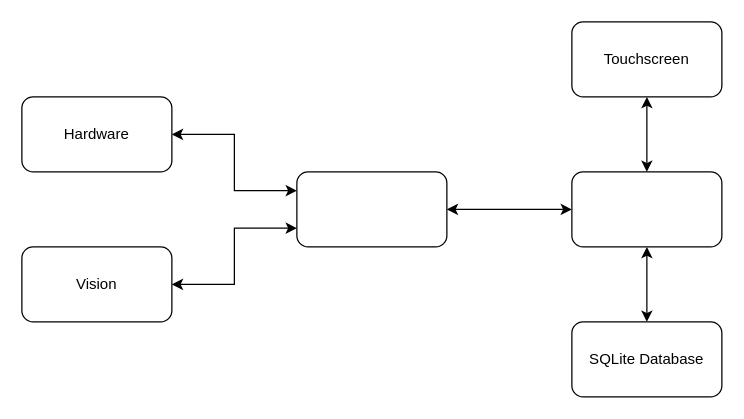
Image size: 744x419. Some labels were removed from this diagram. The shapes that lost their labels are listed below. From the top down, each one's box as (x1, y1, x2, y2) in pixels, then its label:
(296, 171, 447, 247): Display Handler
(571, 171, 722, 247): Display Engine
